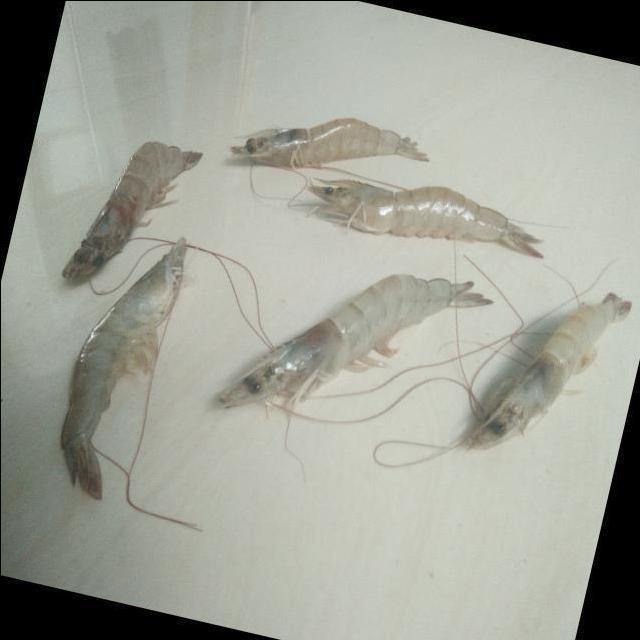shrimp: (219, 274, 489, 406), (60, 237, 185, 499), (468, 292, 632, 449), (61, 140, 201, 279), (309, 178, 543, 257), (231, 116, 428, 166)
